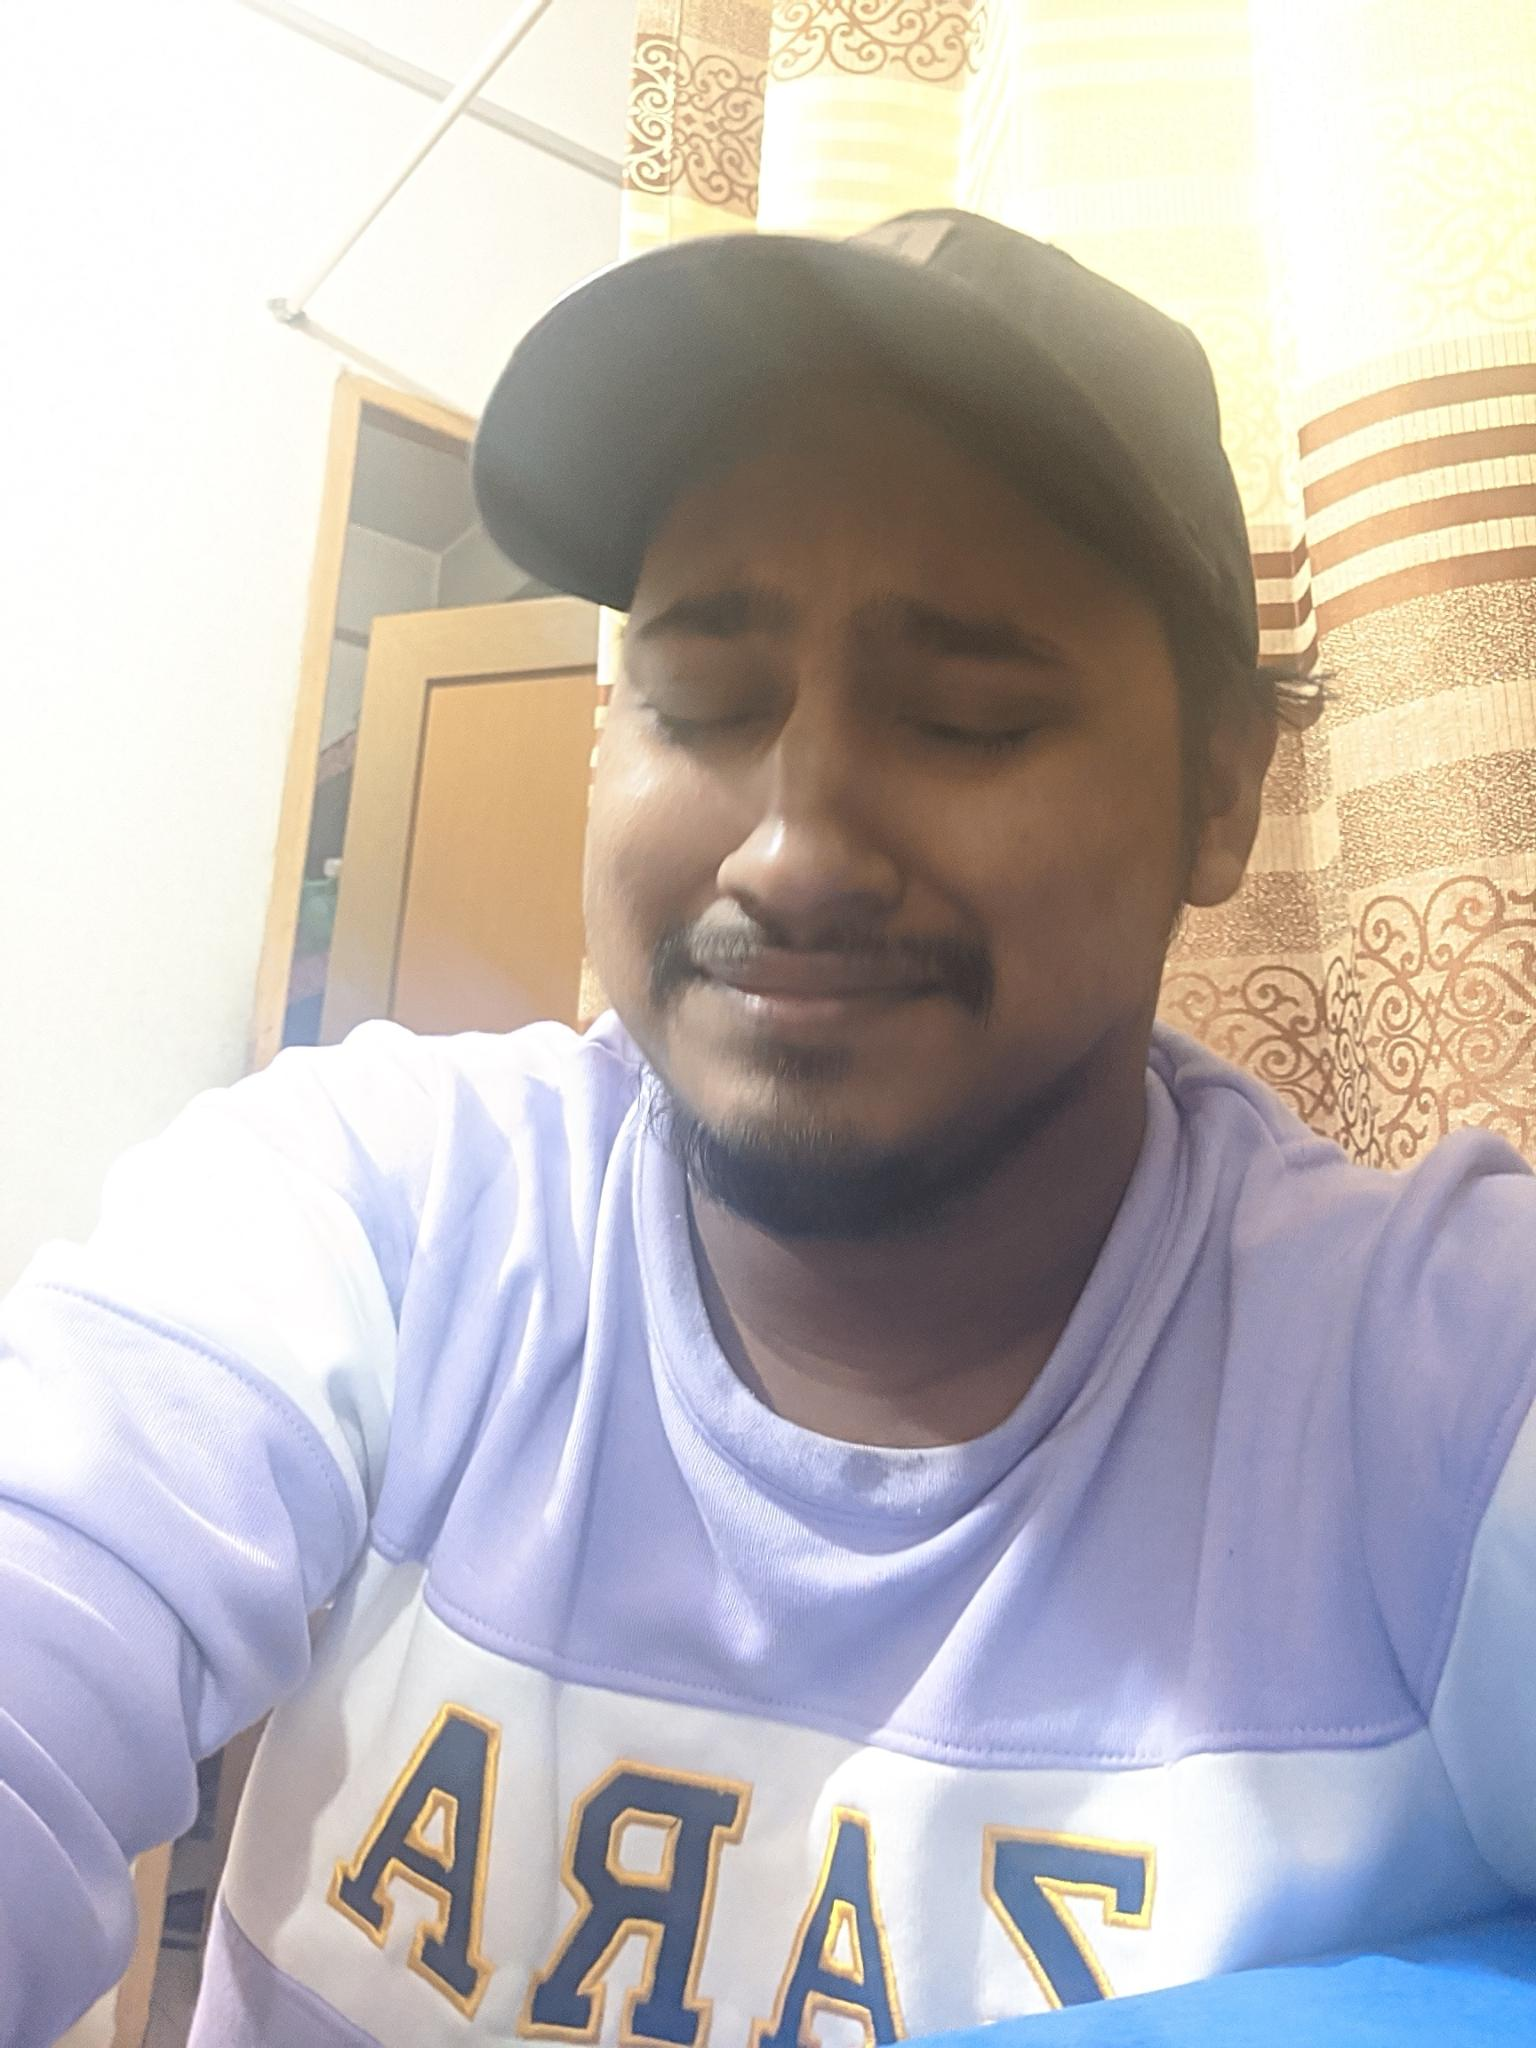Sad: (547, 522, 1165, 1216)
